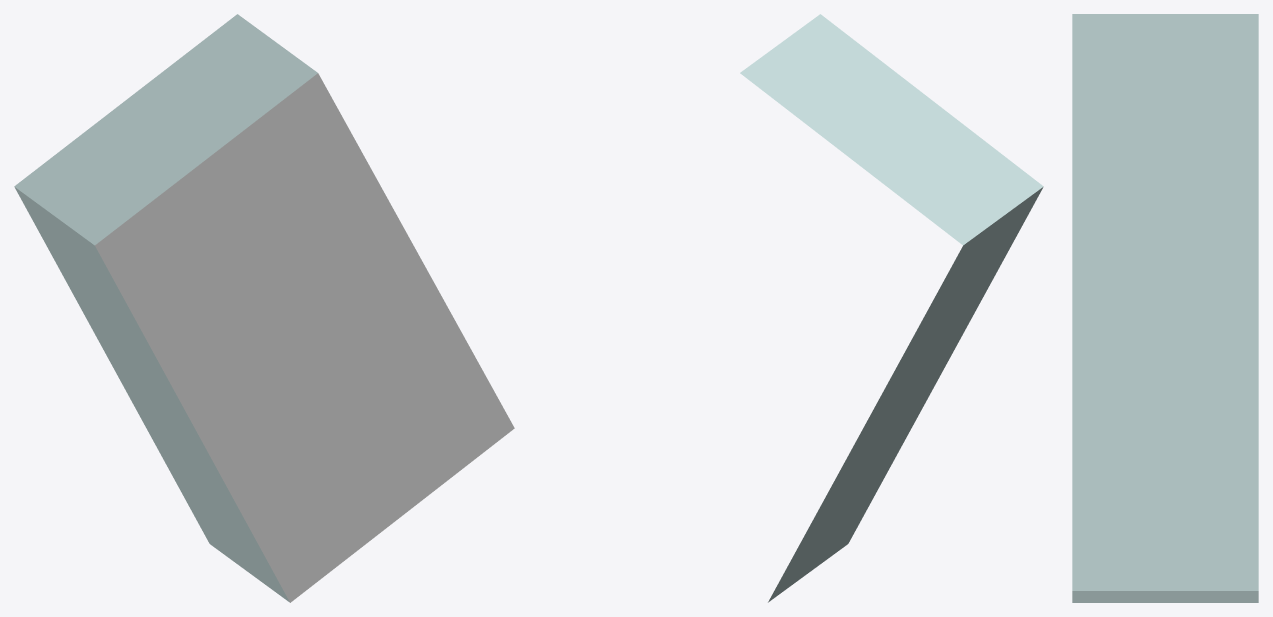
3 renders of one model, left to right at view 1: azimuth 30°, elevation 25°; view 2: azimuth 150°, elevation 25°; view 3: azimuth 270°, elevation 25°, orthographic. The views are drawn at different scales.
Parts seen in each view (by area): view 1: 0_1_1_3_0_0_2_2_3; view 2: 0_1_1_3_0_0_2_2_3; view 3: 0_1_1_3_0_0_2_2_3.
Boxes of the visible parts, bbox=[...] form: 0_1_1_3_0_0_2_2_3: bbox=[14, 14, 514, 602]; 0_1_1_3_0_0_2_2_3: bbox=[740, 14, 1043, 602]; 0_1_1_3_0_0_2_2_3: bbox=[1072, 14, 1258, 602].
Bounding box in the file's own units: 9.02 × 10.73 × 3.
